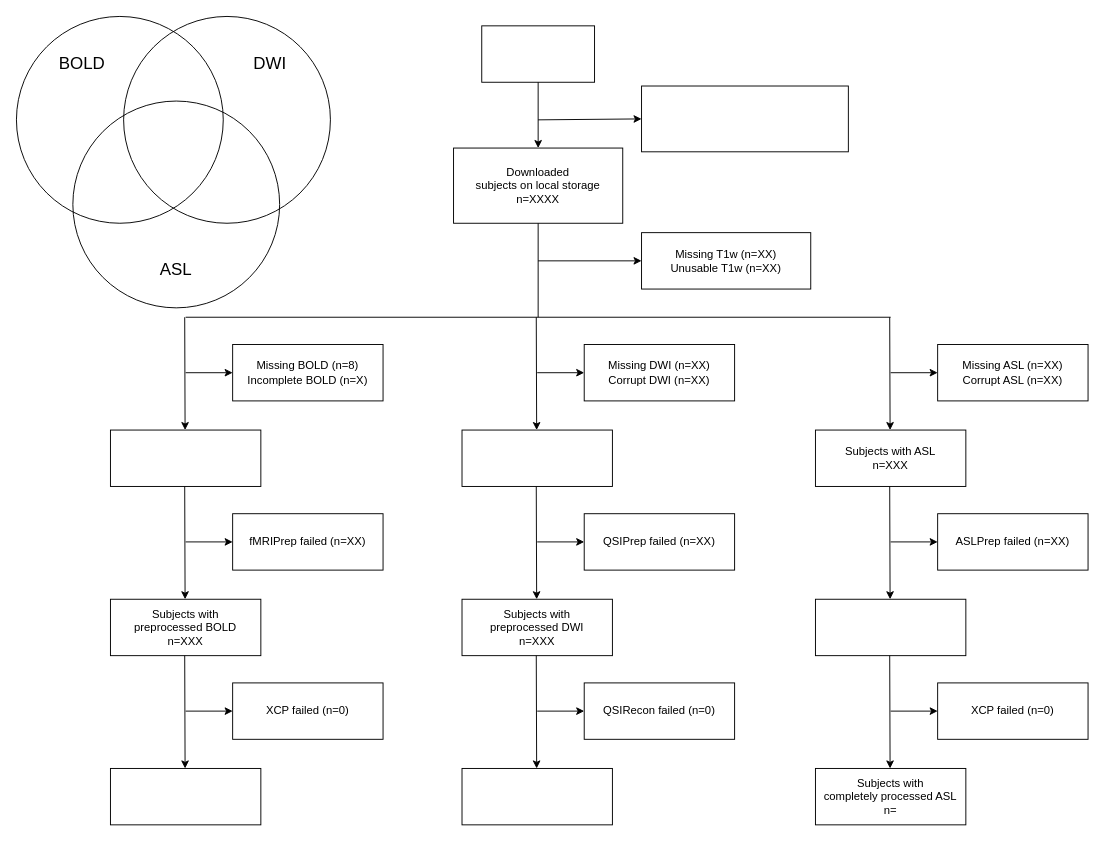
Image size: 1105x841. Some labels were removed from this diagram. Here are the shapes that lost their labels. From the top down, the centre of each, then its label:
At (538,53): "Data Source claims available subjects: n=XXX".
At (744,118): "Unavailable subjects (n=XX) Corrupted data subjects (n=0)".
At (185,457): "Subjects with BOLD n=XXX".
At (536,457): "Subjects with DWI n=XXX".
At (890,627): "Subjects with preprocessed ASL n=XXX".
At (185,796): "Subjects with completely processed BOLD n=".
At (536,796): "Subjects with completely processed DWI n=".
